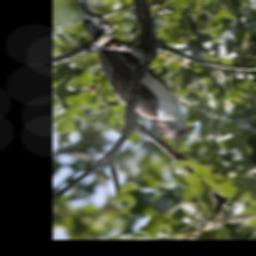Cuckoo: (67, 0, 198, 139)
